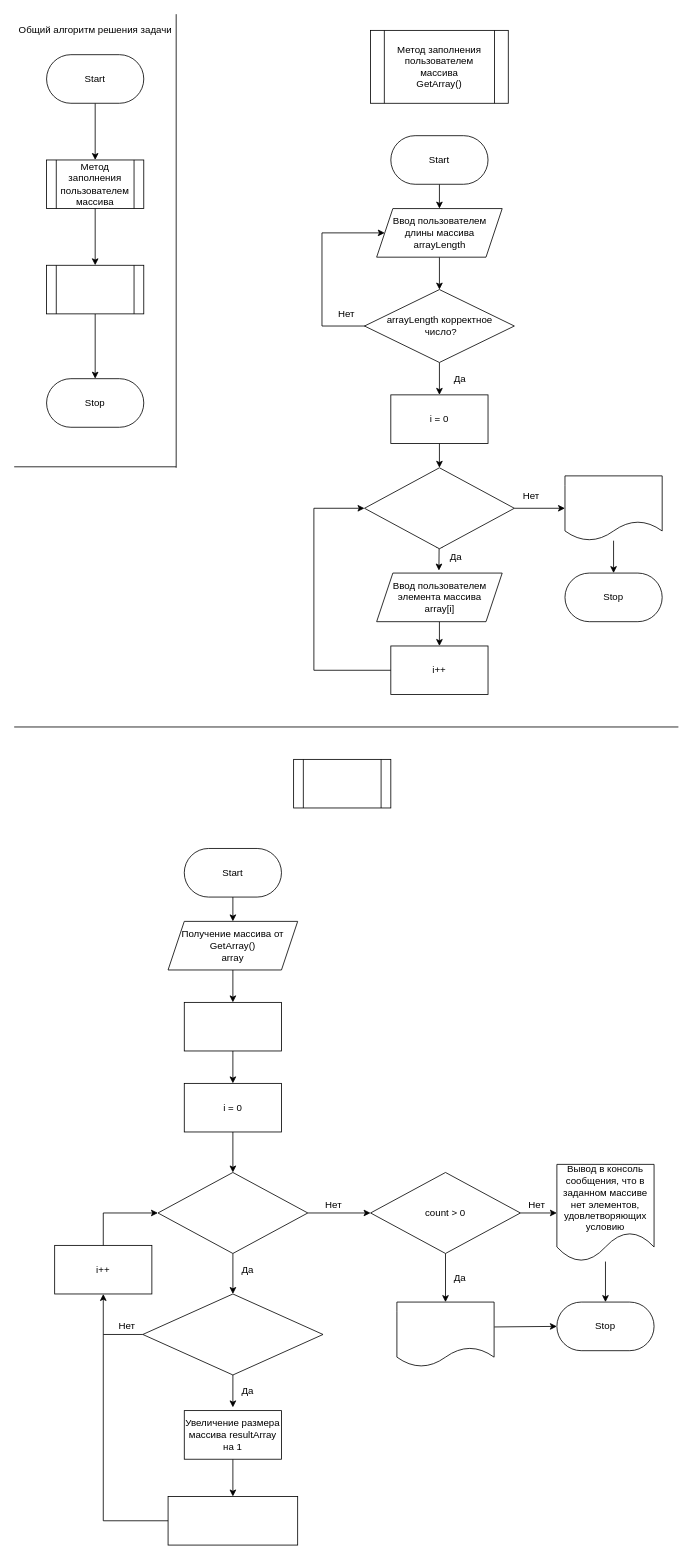
The diagram is 693 pixels wide and 1559 high, and some of its shapes have lost their labels. The shapes that lost their labels are listed below. From the top down, each one's centre as x and y in pixels, then its label:
(x=95, y=289): Метод решения задачи
(x=439, y=508): i < arrayLength
(x=613, y=508): Вывод в консоль введенного массива
(x=342, y=783): Метод решения задачи GetResultArray()
(x=232, y=1026): count = 0 resultArray[count] maxLengthElem = 3
(x=232, y=1212): i < array.GetLength
(x=232, y=1334): array[i].Length <= maxLengthElem
(x=445, y=1334): Вывод в консоль resultArray
(x=232, y=1520): resultArray[count] = array[i] Сount++
